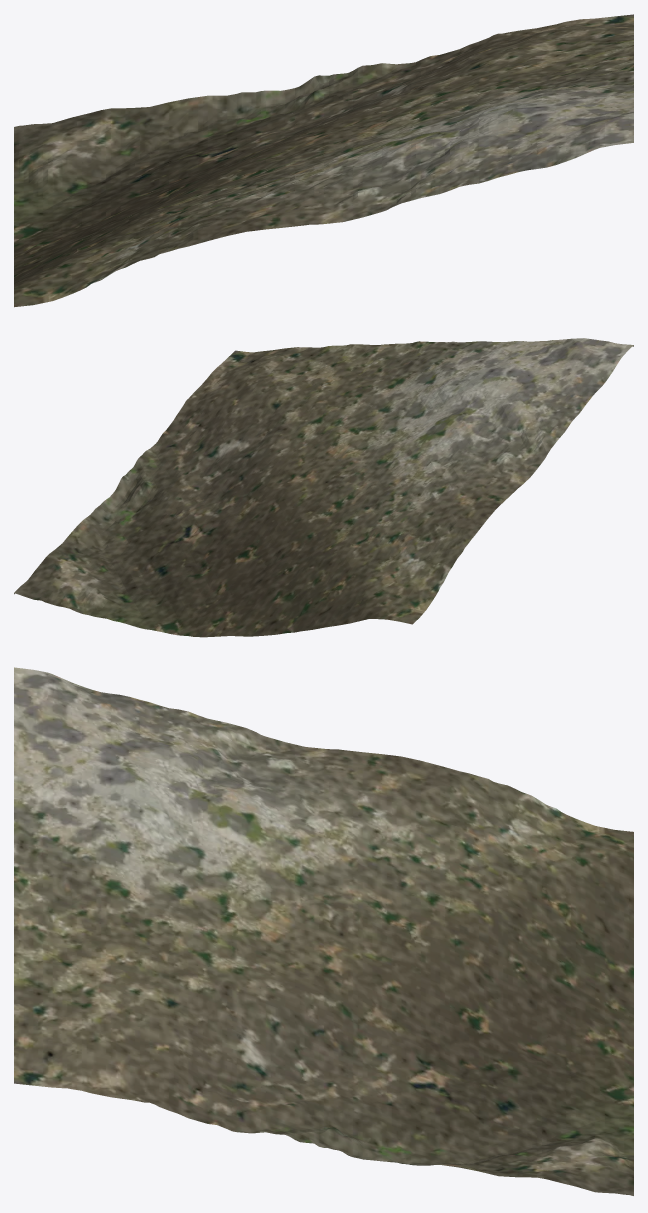
The picture shows the model from 3 angles, top to bottom: view 1: azimuth 90°, elevation 25°; view 2: azimuth 150°, elevation 25°; view 3: azimuth 270°, elevation 25°; orthographic projection. The views are drawn at different scales.
Size of the model in its own units: 250 by 113 by 241.
Materials: 1 (1 with a texture image).
